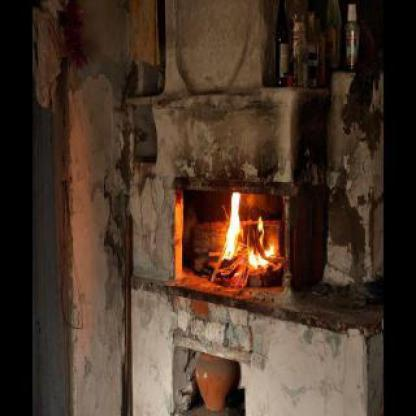fire: (212, 184, 277, 274)
